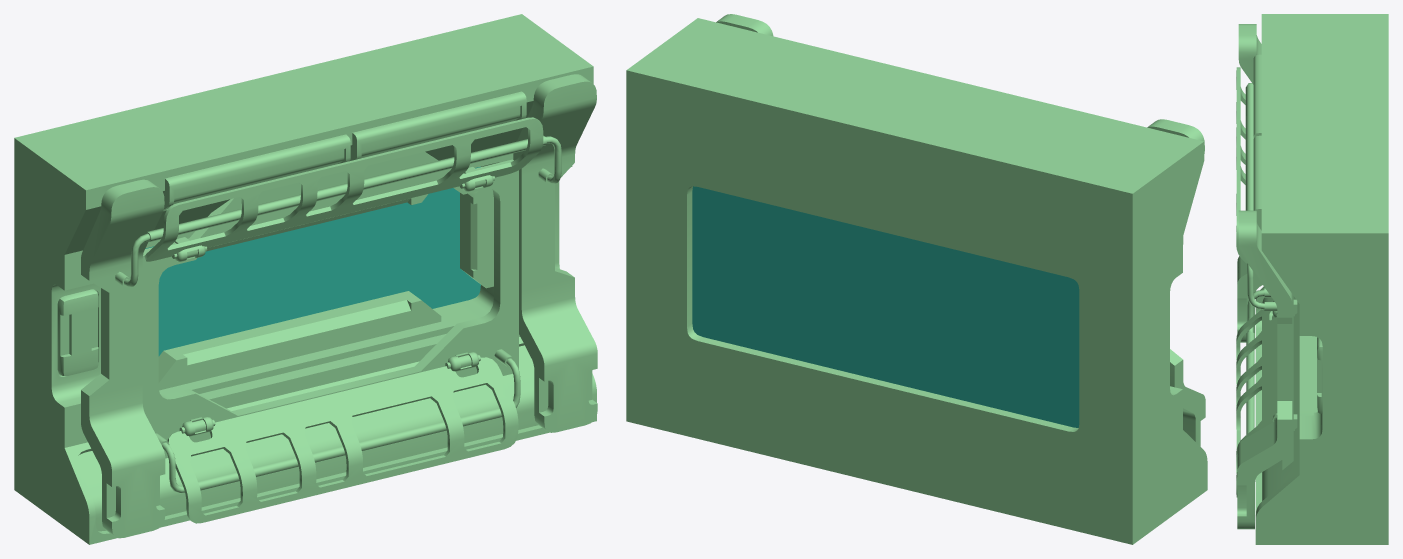
The model's file is Wall_Win.FBX.
3 views of the same model, side by side, from view 1: azimuth 30°, elevation 25°; view 2: azimuth 150°, elevation 25°; view 3: azimuth 270°, elevation 25° (orthographic). The views are drawn at different scales.
Visible parts, largest first — view 1: Wall_Win, Wall_Win_Glass; view 2: Wall_Win, Wall_Win_Glass; view 3: Wall_Win.
Part boxes in pixels (bbox=[...]): Wall_Win: bbox=[14, 14, 597, 544]; Wall_Win_Glass: bbox=[145, 166, 480, 356]; Wall_Win: bbox=[626, 14, 1207, 544]; Wall_Win_Glass: bbox=[692, 186, 1079, 427]; Wall_Win: bbox=[1236, 14, 1388, 544].
Bounding box in the file's own units: 400 × 265 × 118.
